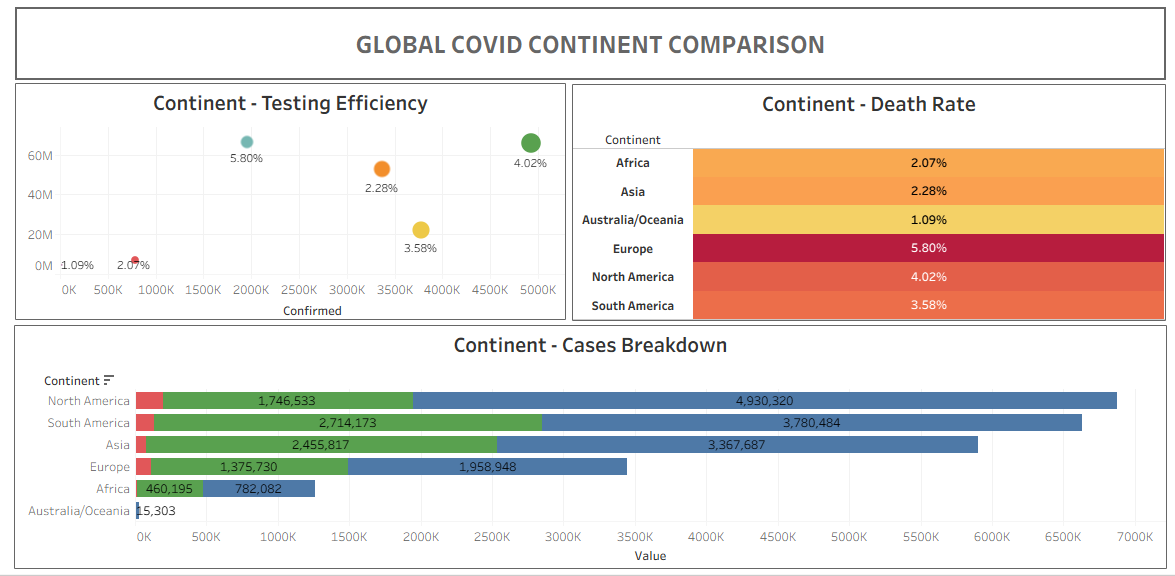

The page's visual inventory and layout, read from the dashboard file:
{"tool":"tableau","page":{"name":"Continent Comparison Dashboard","canvas":[1000,1000],"units":"permille","ordinal":0},"visuals":[{"type":"text","box":[18.4,29.1,963.2,125]},{"type":"worksheet","title":"Continent - Testing Efficiency","mark":"Automatic","rows":["Total_Tests"],"cols":["Confirmed"],"box":[18.4,159.2,461.1,405.8]},{"type":"worksheet","title":"Continent - Death Rate","mark":"Square","rows":["Continent"],"box":[484.5,161,497.1,405.8]},{"type":"worksheet","title":"Continent - Cases Breakdown","mark":"Automatic","rows":["Continent"],"box":[17.6,573.6,964.9,417.8]}]}

Visuals, with their boxes on the dashboard's canvas, which has no fixed pixel size, in thousandths of its width and height (x1, y1, x2, y2). These are canvas units, not pixel positions in the 1175x576 screenshot, which may show the page scaled, cropped or inside an application window:
text: 18/29/982/154
"Continent - Testing Efficiency" worksheet: 18/159/480/565
"Continent - Death Rate" worksheet (Square marks): 484/161/982/567
"Continent - Cases Breakdown" worksheet: 18/574/982/991
